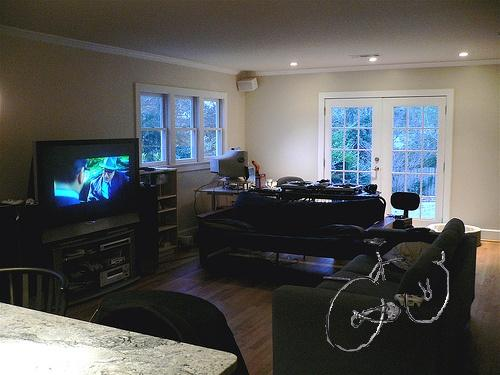tampered: (326, 239, 449, 352)
